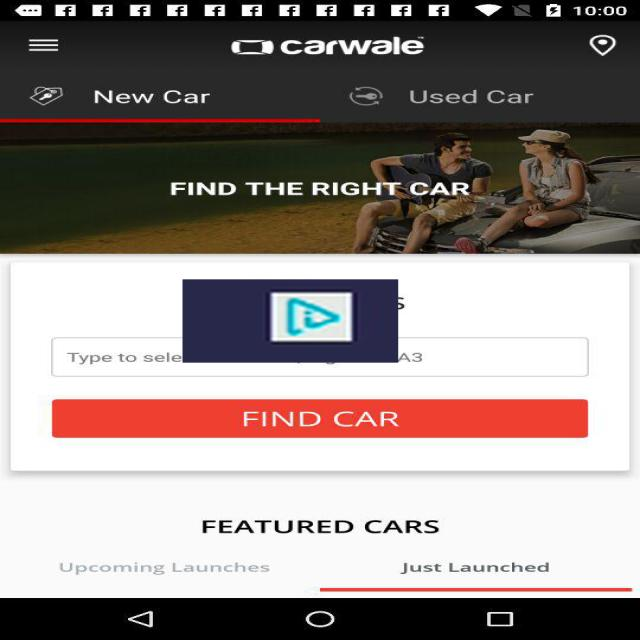sneaking: (183, 279, 398, 363)
